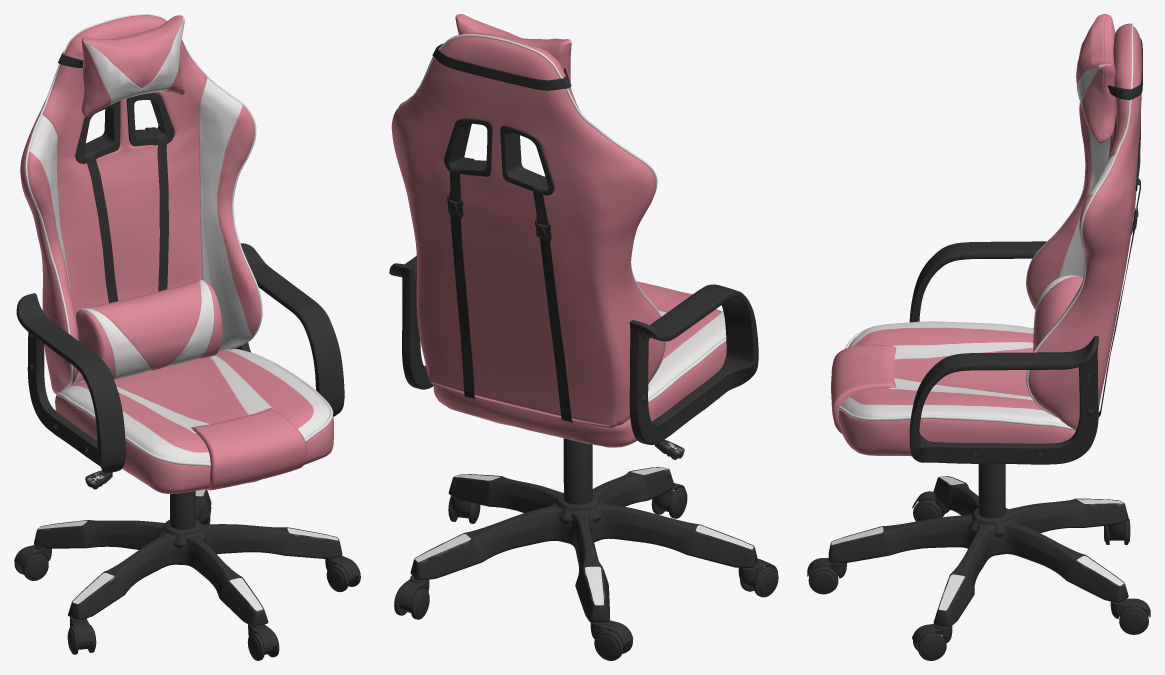
File: muskonge-n24t6n23s3012-211585f6.glb
3 views of the same model, side by side, from view 1: azimuth 30°, elevation 25°; view 2: azimuth 150°, elevation 25°; view 3: azimuth 270°, elevation 25° (orthographic). The views are drawn at different scales.
Visible parts, largest first — view 1: ASSET; view 2: ASSET; view 3: ASSET.
Boxes of the visible parts, x1,y1,x2,y2 form: ASSET: [14, 14, 360, 660]; ASSET: [389, 14, 778, 660]; ASSET: [807, 14, 1150, 660].
Bounding box in the file's own units: 0.6451 × 1.14 × 0.6418.
1 material, 1 textured.
